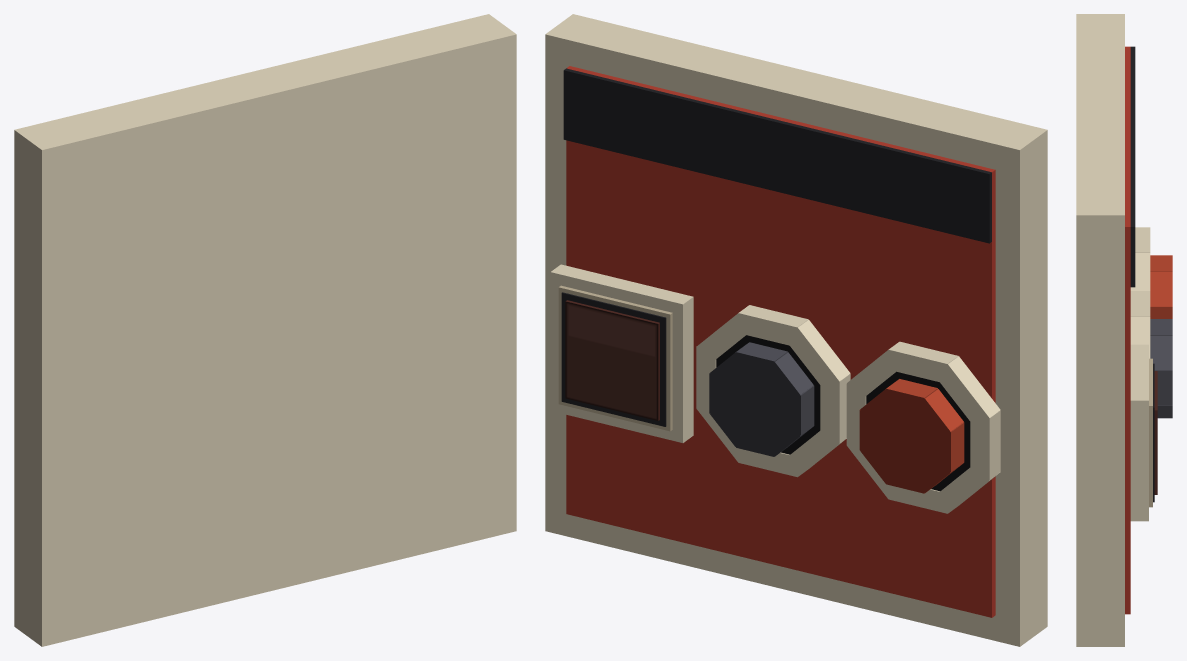
The model's file is lamp_btn_off.obj.
3 renders of one model, left to right at view 1: azimuth 30°, elevation 25°; view 2: azimuth 150°, elevation 25°; view 3: azimuth 270°, elevation 25°, orthographic. The views are drawn at different scales.
Parts seen in each view (by area): view 1: Panel; view 2: Panel, Lamp, BtnB, BtnA; view 3: Panel, Lamp, BtnA, BtnB.
Part boxes in pixels (x1,y1,x2,y2): Panel: [14, 14, 516, 646]; Panel: [545, 14, 1047, 646]; Lamp: [550, 264, 693, 442]; BtnB: [846, 341, 1000, 513]; BtnA: [696, 305, 850, 477]; Panel: [1076, 14, 1135, 646]; Lamp: [1130, 344, 1157, 521]; BtnA: [1130, 291, 1172, 418]; BtnB: [1130, 227, 1172, 318].
Size of the model in its own units: 1 by 1 by 0.2016.
Materials: 1 (1 with a texture image).
